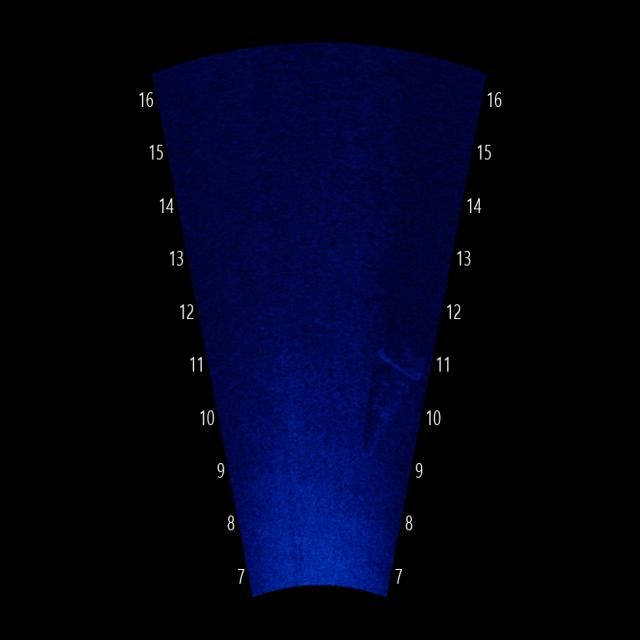triangle: (361, 334, 421, 468)
